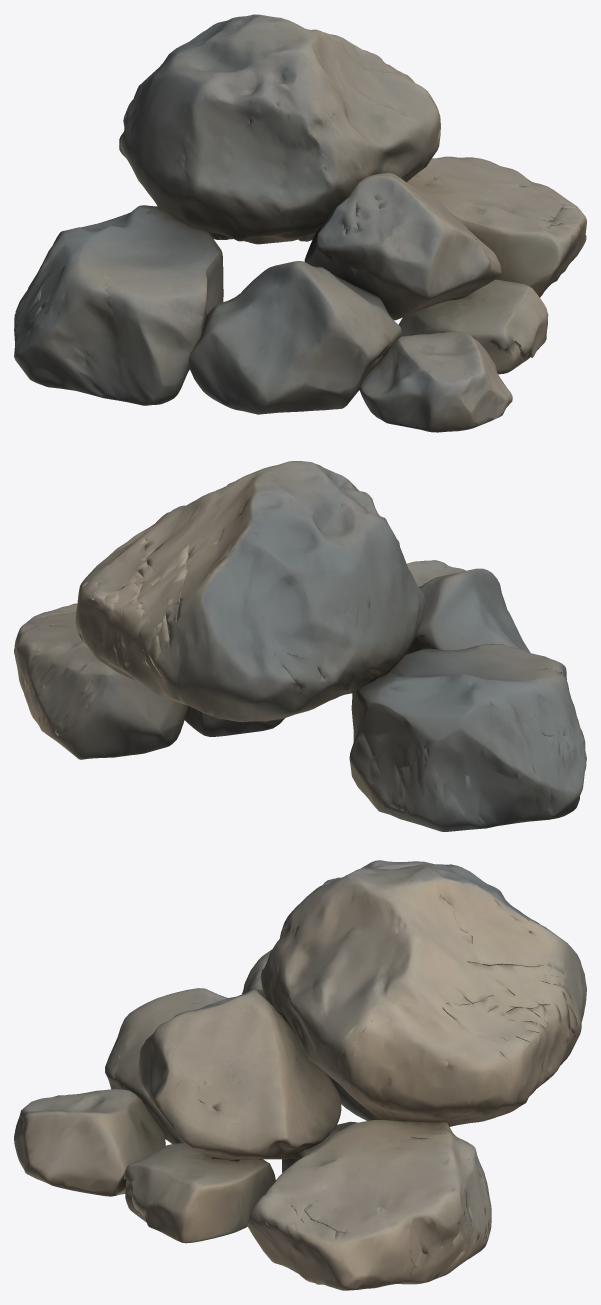
File: rock_pile.glb
The picture shows the model from 3 angles, top to bottom: view 1: azimuth 30°, elevation 25°; view 2: azimuth 150°, elevation 25°; view 3: azimuth 270°, elevation 25°; orthographic projection. The views are drawn at different scales.
Parts seen in each view (by area): view 1: tripo_node_cd935880-6921-4c40-9a6c-824a5d799c42; view 2: tripo_node_cd935880-6921-4c40-9a6c-824a5d799c42; view 3: tripo_node_cd935880-6921-4c40-9a6c-824a5d799c42.
Part boxes in pixels (x1,y1,x2,y2): tripo_node_cd935880-6921-4c40-9a6c-824a5d799c42: (14,14,586,432); tripo_node_cd935880-6921-4c40-9a6c-824a5d799c42: (14,461,586,831); tripo_node_cd935880-6921-4c40-9a6c-824a5d799c42: (14,860,586,1290).
Size of the model in its own units: 1.43 by 0.7001 by 1.22.
Materials: 1 (1 with a texture image).
